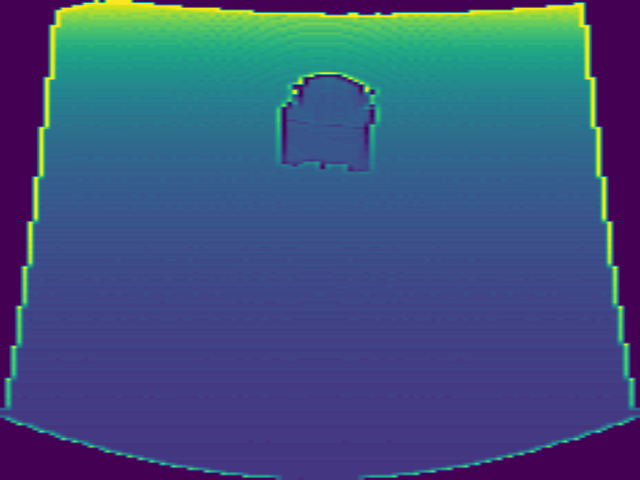car_0027: (270, 71, 382, 177)
